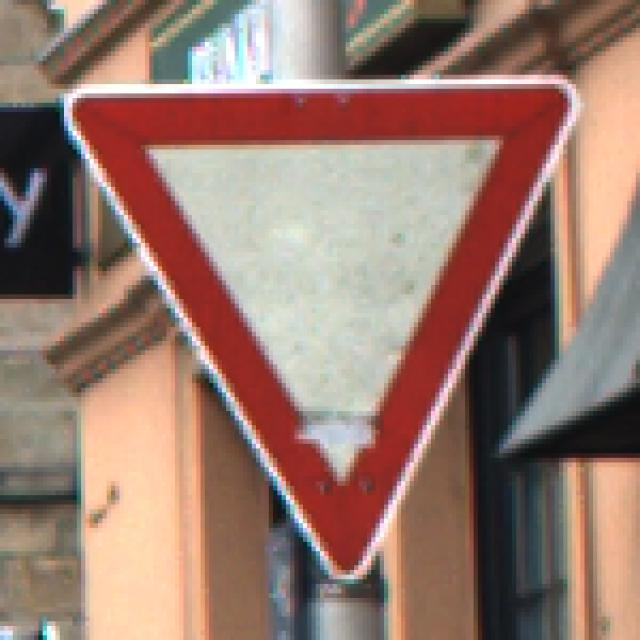Give Way: (57, 57, 586, 585)
